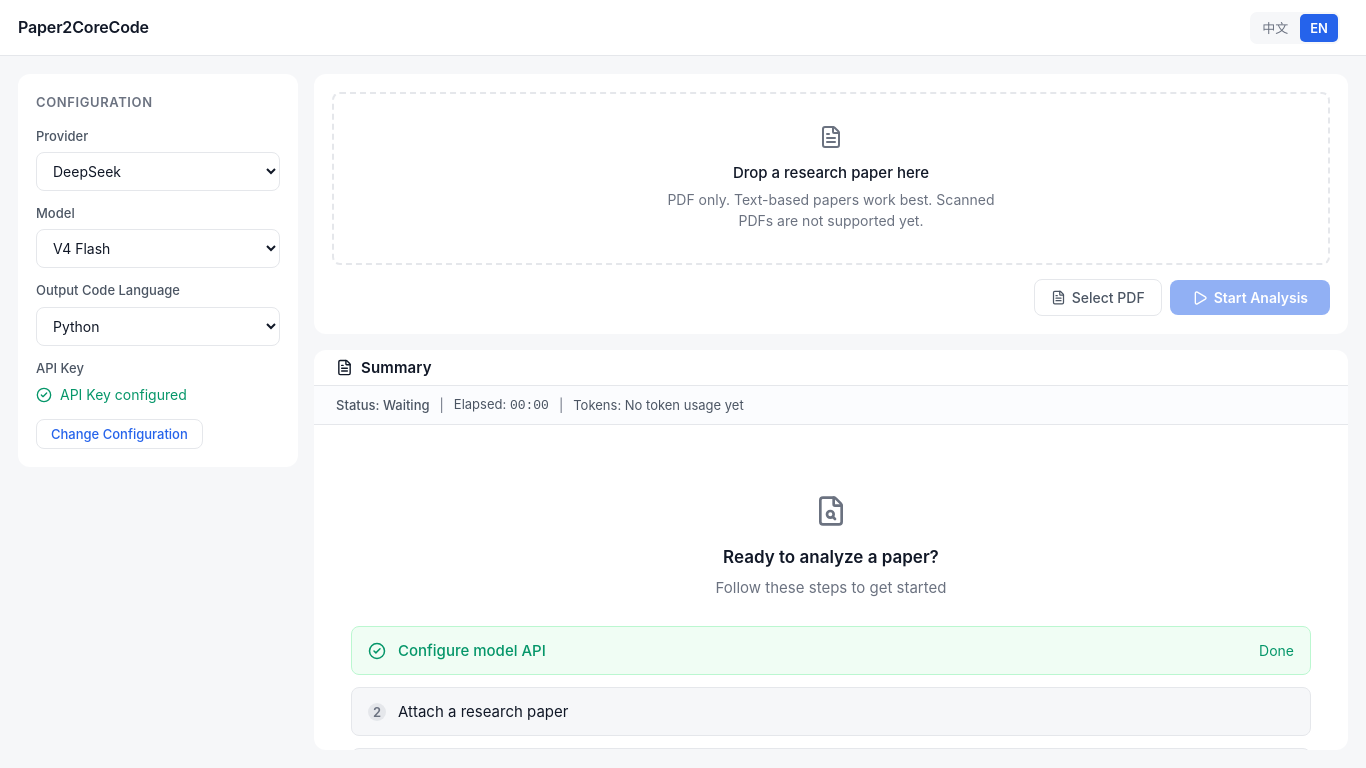
App analysis flow › shows failed responses without optional detail or token usage
This screenshot has width=1366, height=768.
Expected: the text "API Key configured" is shown, [60,384,187,405]
Click the button "Select PDF".
click(1098, 298)  # box [1034,279,1162,316]
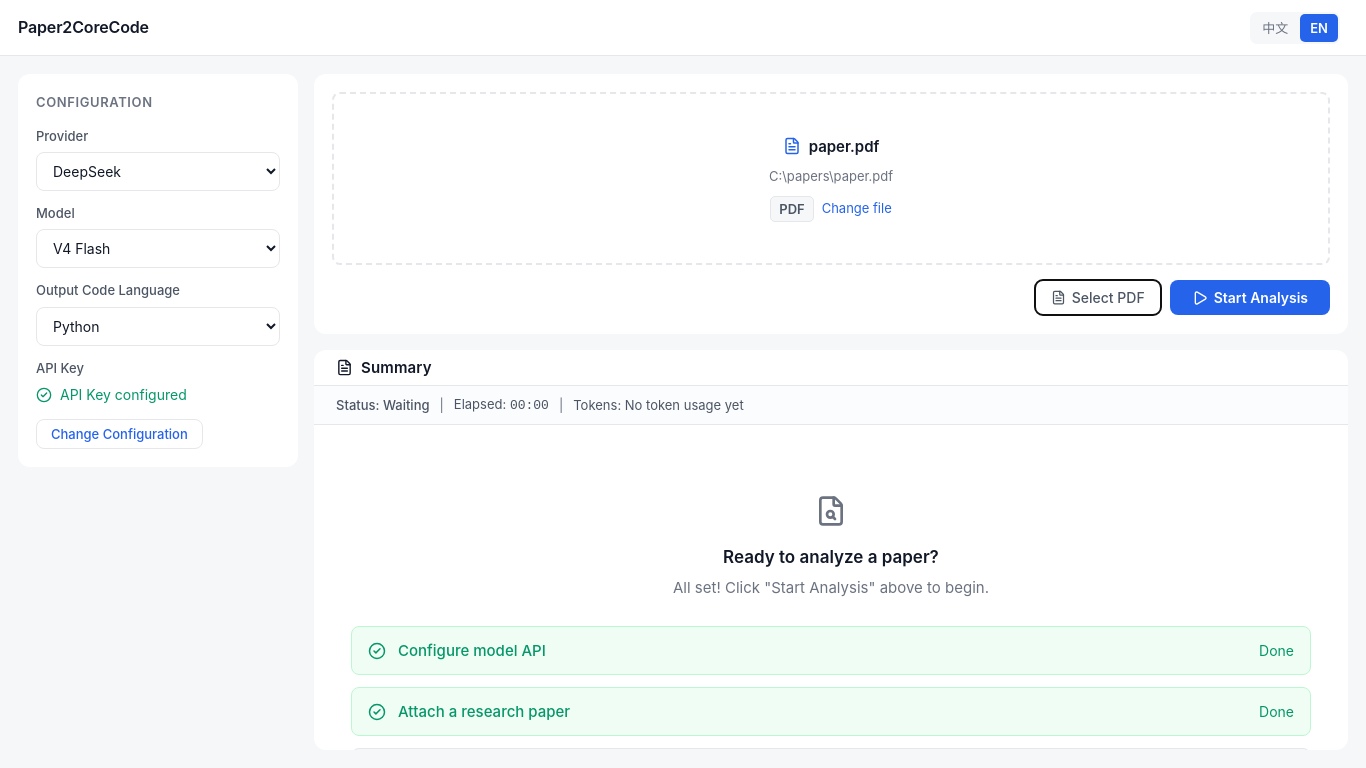
Click the button "Start Analysis".
click(1250, 298)  # box [1170,280,1330,315]
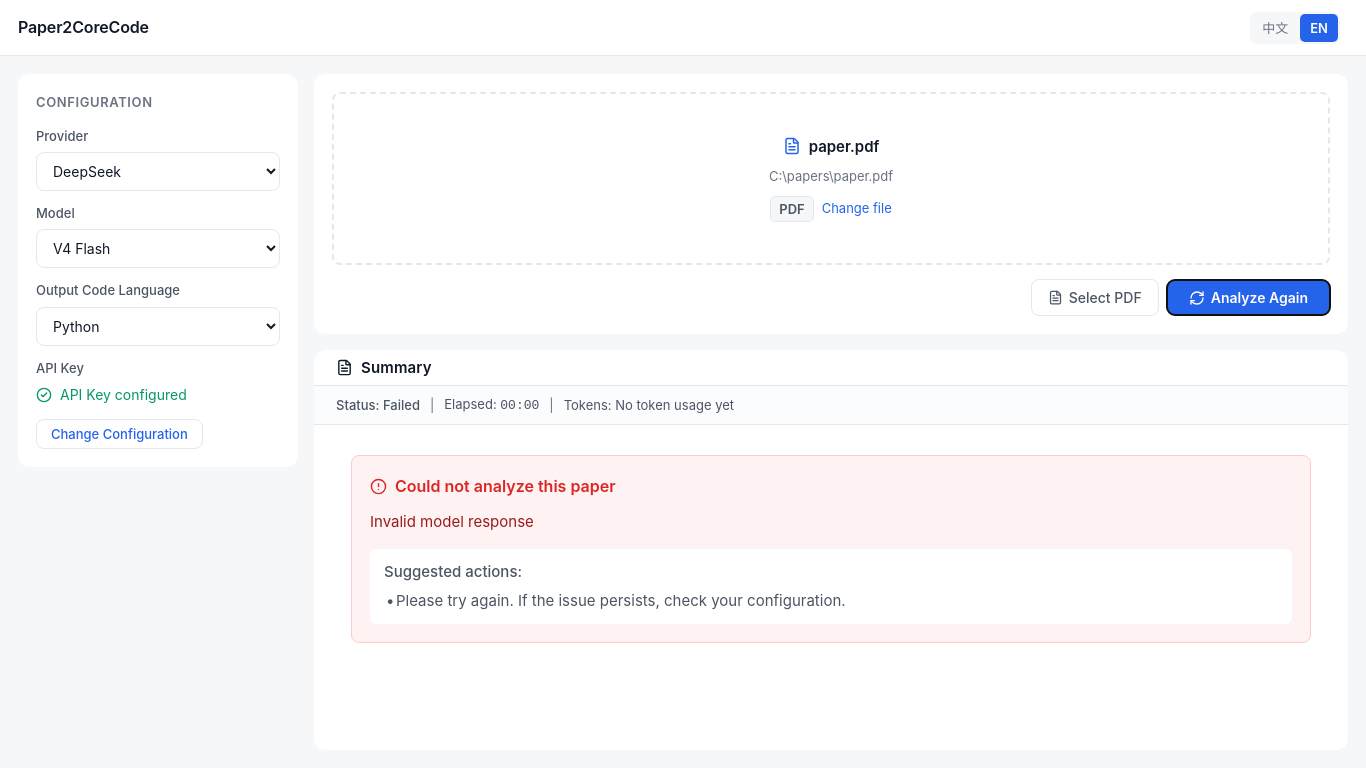
Expected: the text "Tokens: No token usage yet" is shown, [564,395,734,415]
Now the text "Status: Failed" is shown, box [336,395,420,415]
Now the text "Invalid model response" is shown, box [370,512,534,531]
